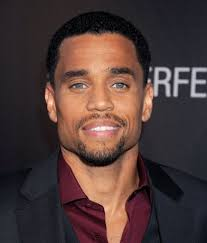black_male: (41, 20, 156, 173)
